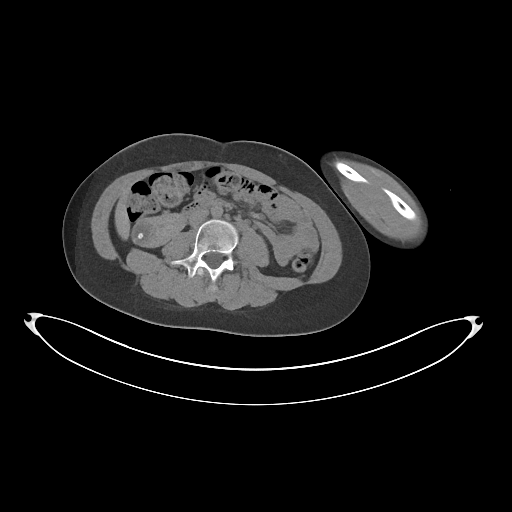Lesion: (133, 228, 149, 246)
